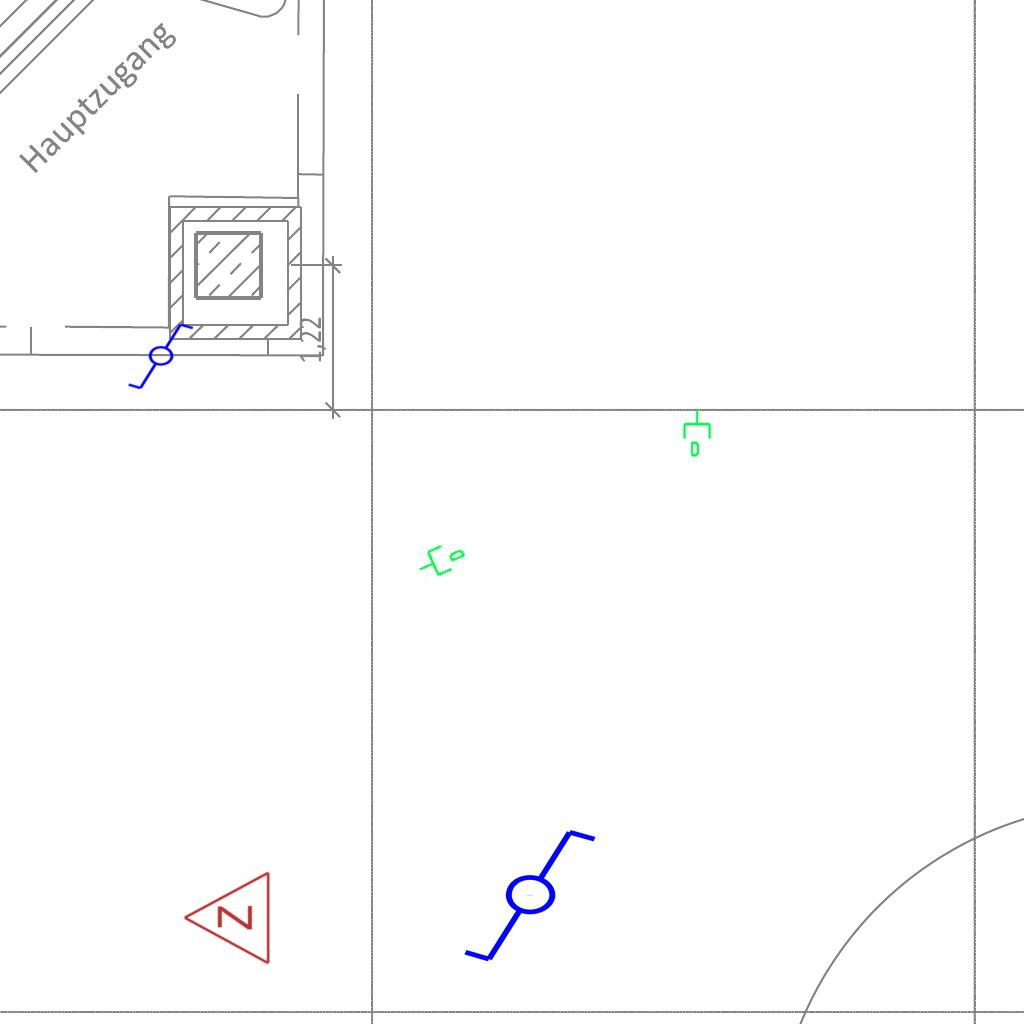Datenanschluss_einfach: (411, 533, 471, 585), (681, 408, 715, 458)
Wechselschalter: (460, 825, 617, 969), (126, 321, 204, 393)
Zimmersignalleuchte: (177, 870, 277, 968)
